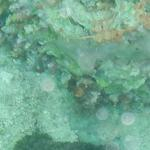dead: (2, 1, 147, 148)
